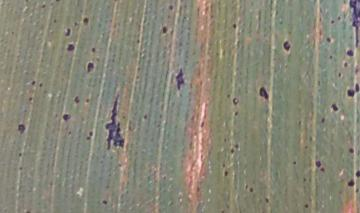tarspot: (104, 92, 126, 152), (348, 1, 360, 48), (174, 66, 186, 92), (346, 83, 360, 99), (258, 84, 271, 101), (282, 39, 293, 53), (86, 60, 96, 74), (17, 123, 27, 136), (61, 112, 72, 123), (84, 130, 95, 141), (65, 42, 76, 52), (330, 102, 340, 113), (345, 48, 356, 58), (346, 178, 356, 188), (73, 94, 81, 106), (82, 16, 91, 26), (64, 27, 72, 38), (232, 97, 241, 106), (161, 25, 169, 35), (314, 159, 322, 168), (325, 36, 333, 44), (354, 65, 360, 75), (72, 20, 79, 28), (17, 165, 25, 172), (66, 129, 73, 137), (84, 97, 91, 105), (102, 198, 109, 206), (264, 196, 271, 204), (348, 147, 356, 154), (143, 112, 149, 121), (355, 169, 360, 179), (38, 81, 45, 88), (231, 22, 238, 29), (233, 110, 240, 117), (234, 142, 241, 149), (248, 186, 255, 193), (320, 166, 327, 173), (221, 137, 229, 143), (196, 185, 202, 193), (337, 70, 343, 78), (343, 60, 349, 68), (31, 79, 37, 86), (27, 95, 34, 101), (168, 4, 174, 11), (221, 161, 227, 168), (320, 117, 326, 124), (336, 15, 343, 21), (224, 169, 229, 177), (225, 93, 231, 99), (304, 203, 310, 209), (291, 159, 297, 165), (301, 176, 307, 182), (329, 19, 335, 25), (91, 47, 97, 52), (18, 152, 23, 158), (296, 119, 301, 125), (304, 144, 309, 150), (354, 188, 360, 193), (136, 38, 141, 44), (41, 3, 46, 8), (53, 17, 57, 23)
